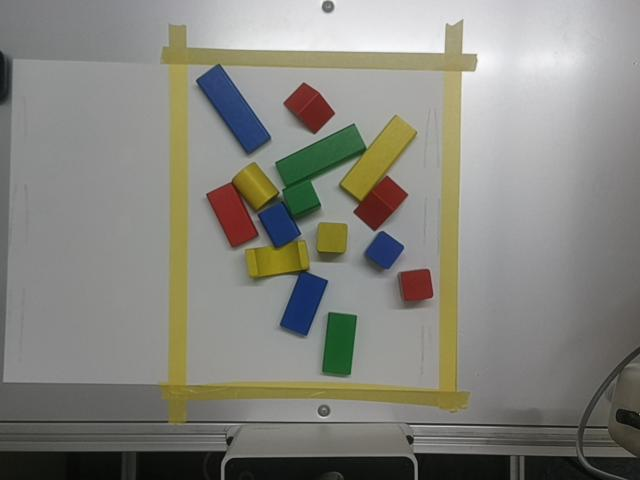blue_cube: (366, 232, 404, 269)
blue_longrect: (196, 65, 272, 154)
blue_rect: (280, 272, 328, 336)
cylinder: (232, 162, 278, 211)
green_cube: (283, 179, 320, 216)
green_longrect: (275, 124, 365, 187)
green_rect: (323, 313, 356, 375)
half_cylinder: (259, 202, 300, 247)
red_cube: (402, 269, 432, 300)
red_rect: (208, 183, 258, 246)
triangle: (353, 176, 408, 231), (285, 83, 334, 134)
yellow_archrect: (247, 241, 309, 276)
yellow_cube: (317, 223, 347, 253)
yellow_longrect: (340, 116, 417, 201)
